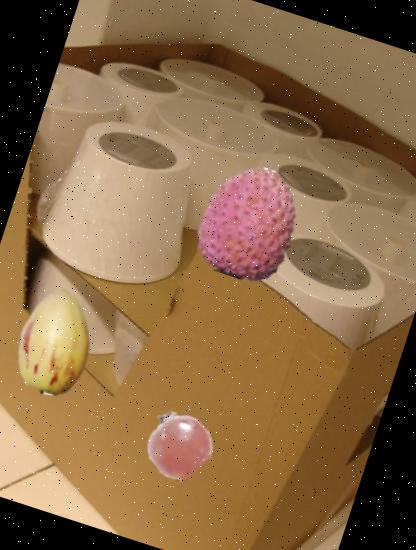Lychee: (178, 150, 322, 294)
Pepino: (0, 274, 122, 409)
Redcurrant: (135, 401, 218, 484)
